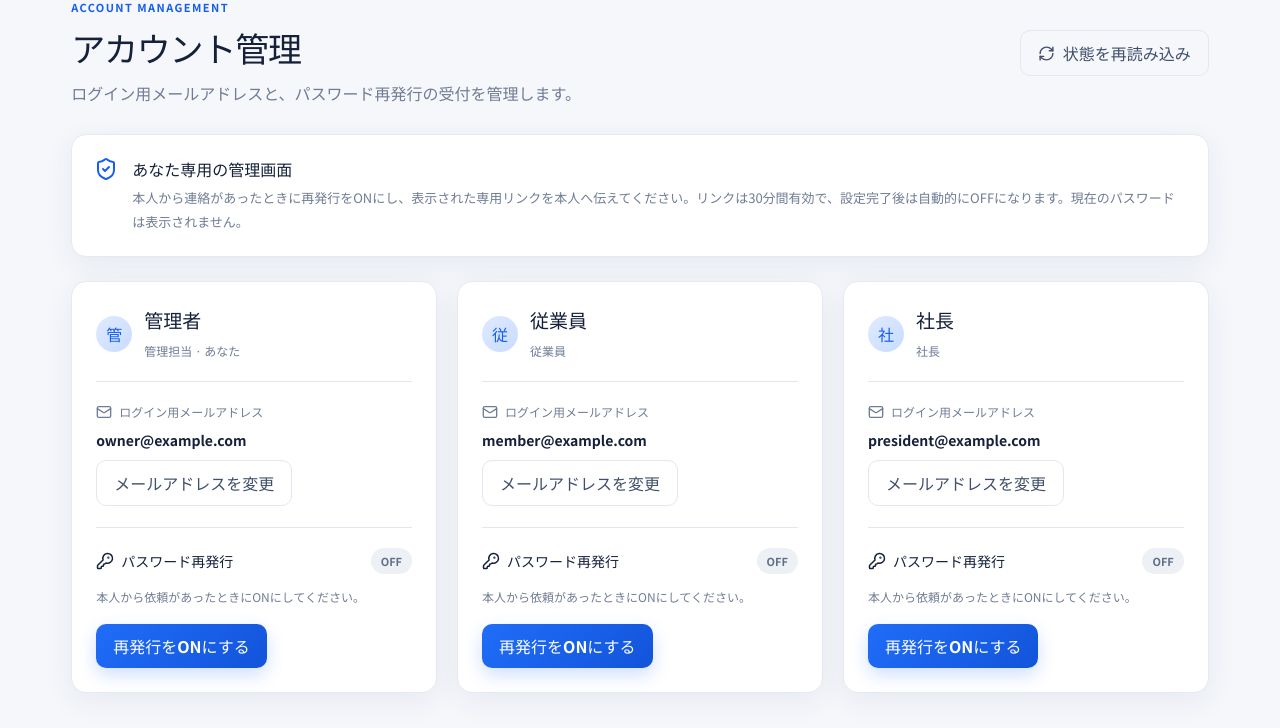
Test: requires recent owner authentication and an explicit action retry
Click the button "再発行をONにする" below "member@example.com" at (567, 646), box [482,624,653,668]
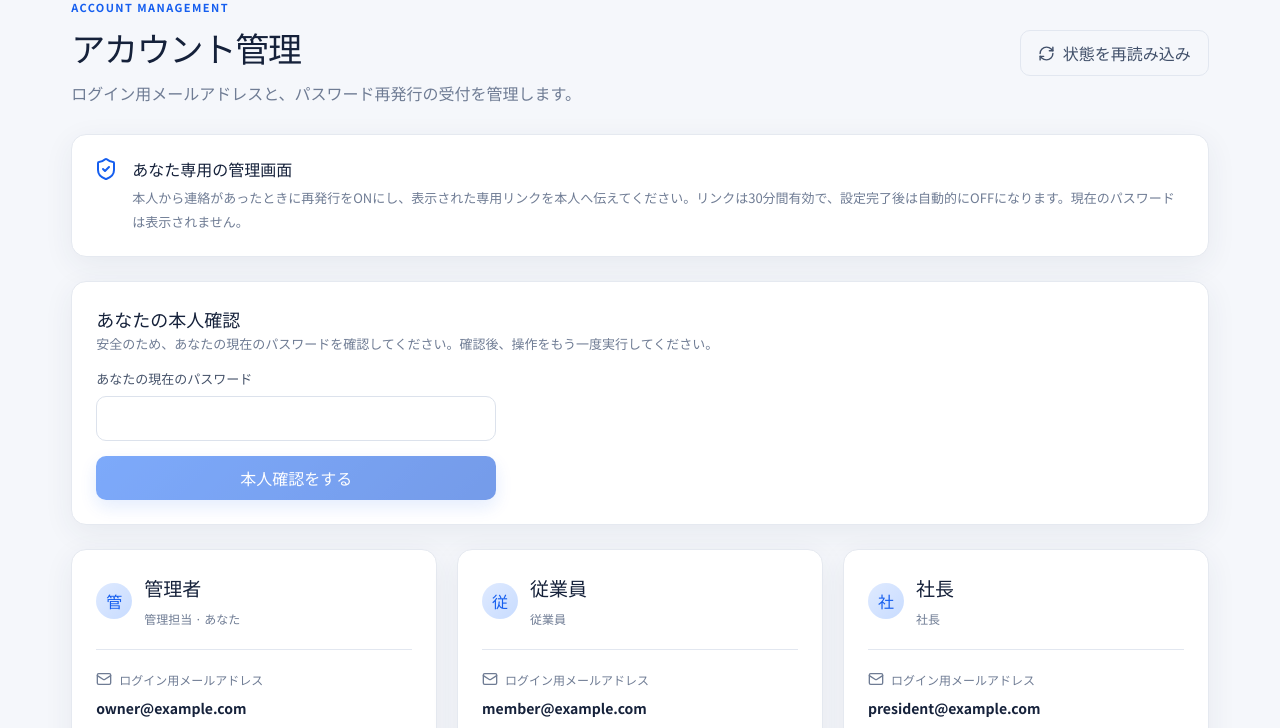
Type "owner-password" into the password field labelled "あなたの現在のパスワード" at (296, 418), box [96,396,496,441]
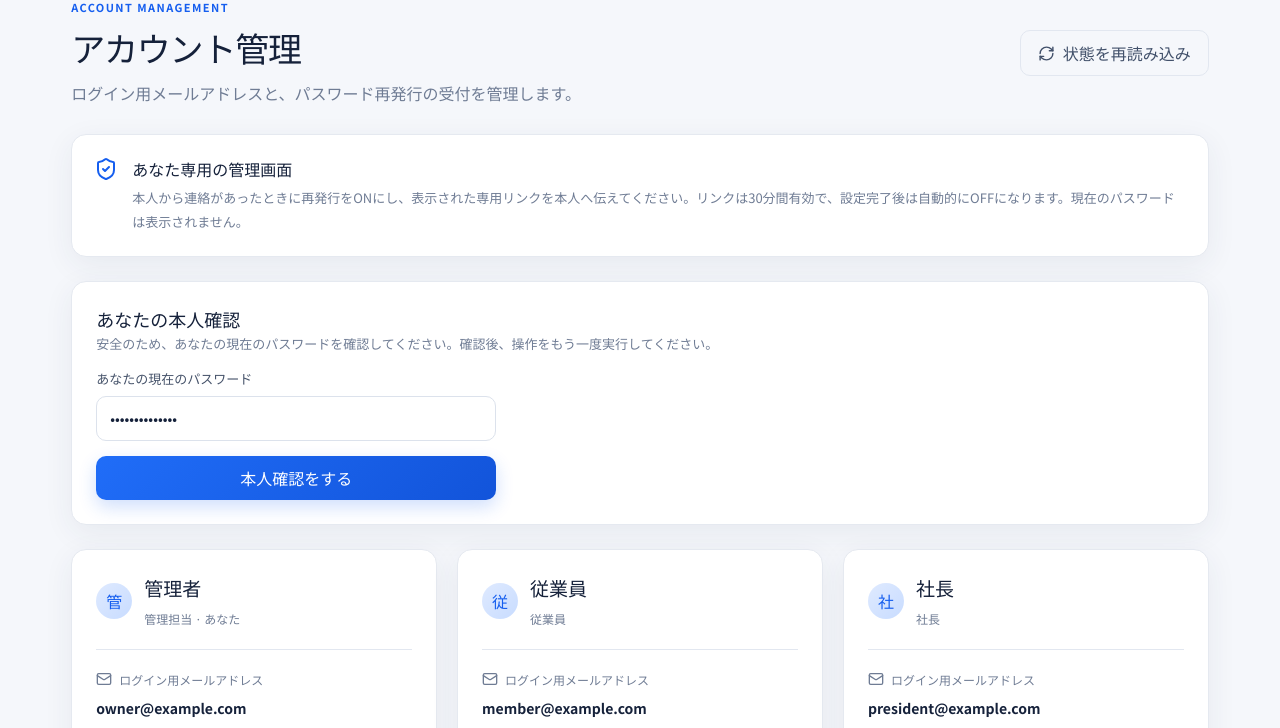
Submit the form labelled "あなたの現在のパスワード", box [96,369,496,500]
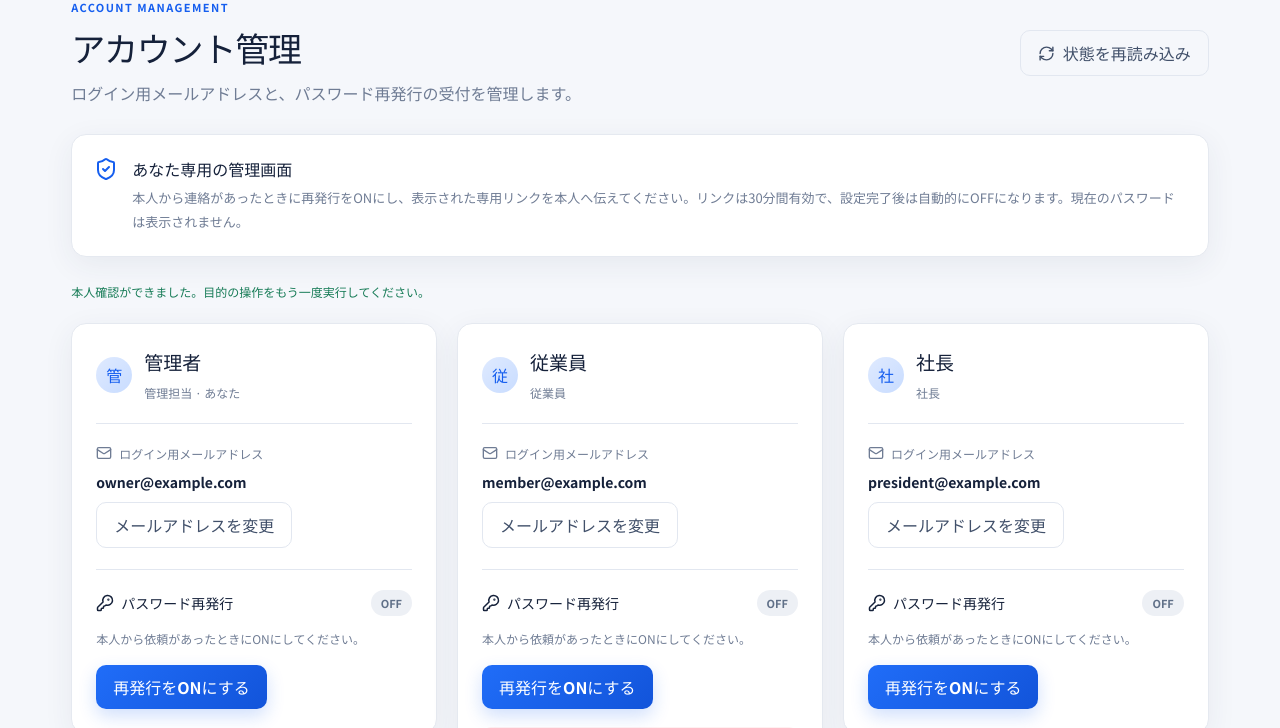
Expected: the text "本人確認ができました。目的の操作をもう一度実行してください。" is shown, [71,283,430,300]
Click the button "再発行をONにする" below "member@example.com" at (567, 688), box [482,666,653,710]
(page scrolled)
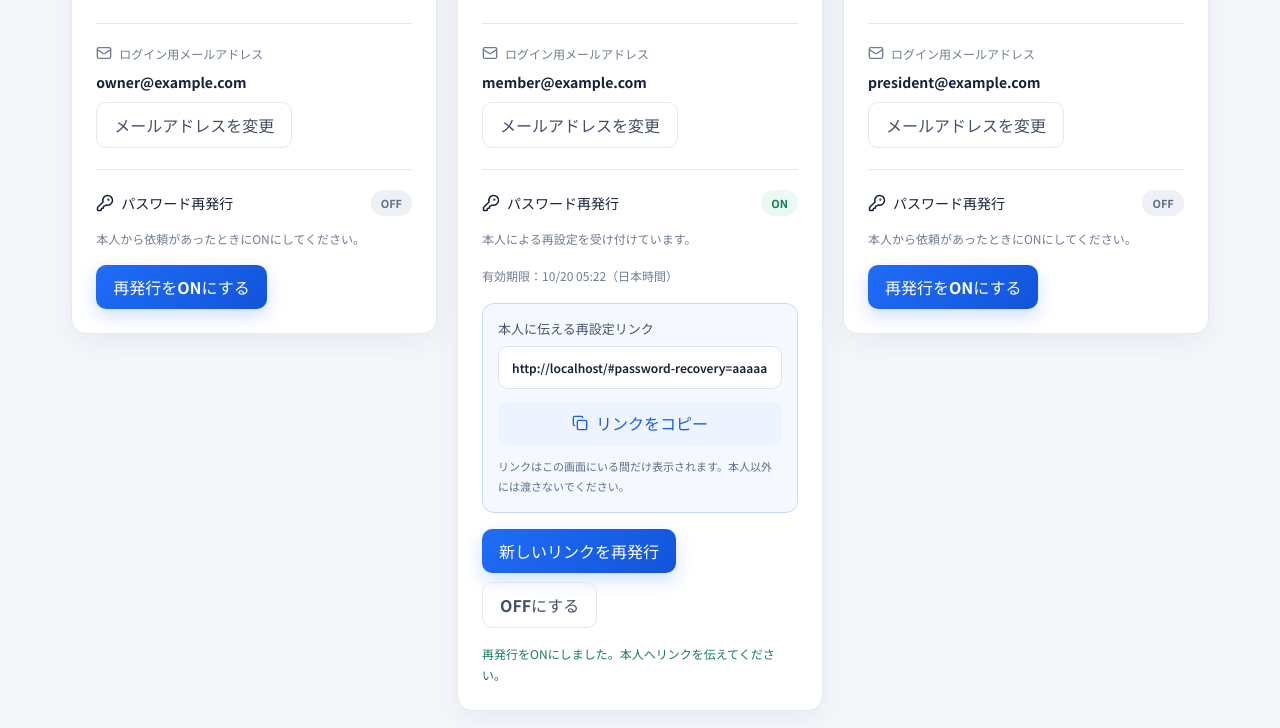
Expected: the field labelled "本人に伝える再設定リンク" is shown, [498,346,782,389]
